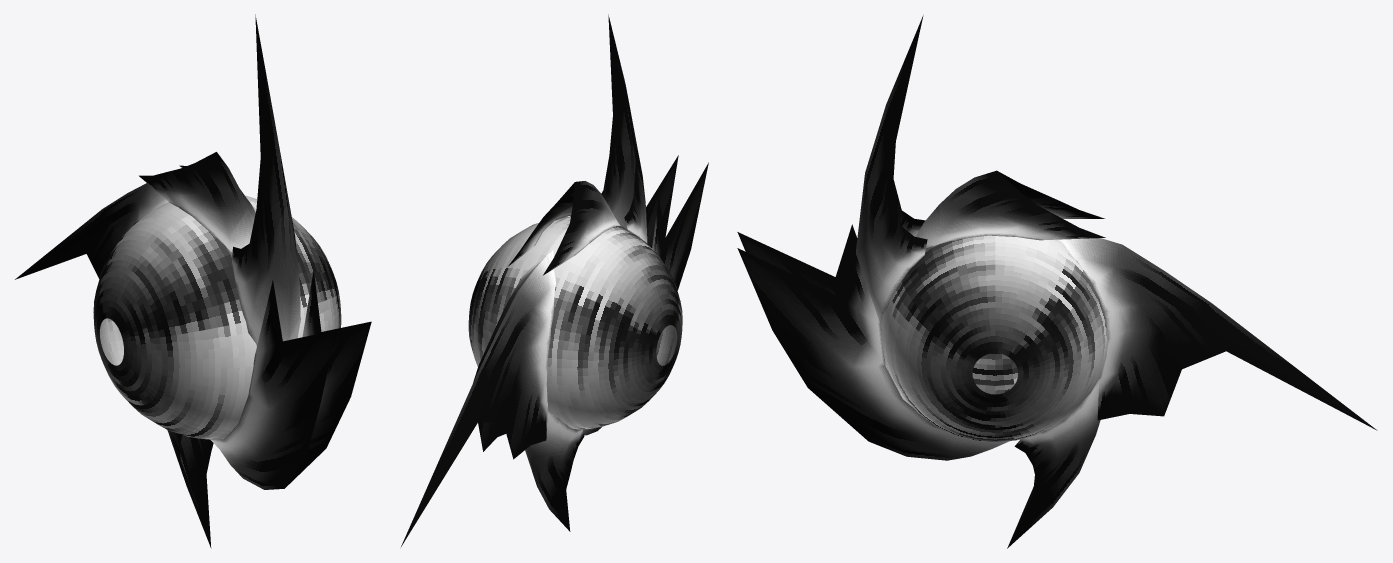
File: Spinningwind.obj
3 views of the same model, side by side, from view 1: azimuth 30°, elevation 25°; view 2: azimuth 150°, elevation 25°; view 3: azimuth 270°, elevation 25° (orthographic). The views are drawn at different scales.
Parts seen in each view (by area): view 1: polygon0, polygon12; view 2: polygon0, polygon12; view 3: polygon0, polygon12.
Boxes of the visible parts, x1,y1,x2,y2 form: polygon0: (15,14,371,548); polygon12: (93,195,341,440); polygon0: (401,14,708,546); polygon12: (468,216,682,430); polygon0: (737,15,1377,548); polygon12: (881,235,1108,442).
Size of the model in its own units: 9.49 by 24.37 by 26.48.
2 materials, 2 textured.
